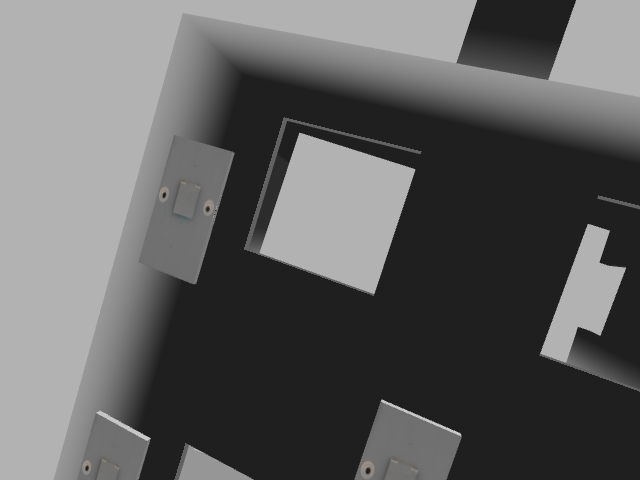facade: (154, 180, 213, 222)
